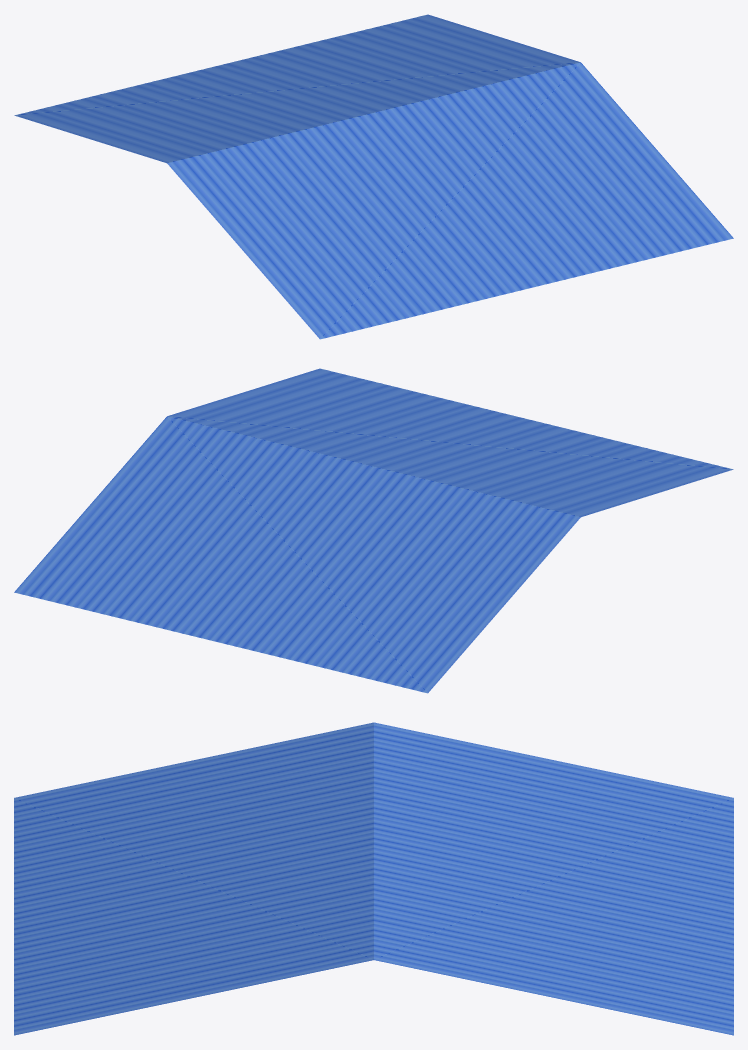
File: roof.fbx
3 renders of one model, top to bottom at view 1: azimuth 30°, elevation 25°; view 2: azimuth 150°, elevation 25°; view 3: azimuth 270°, elevation 25°, orthographic. The views are drawn at different scales.
Visible parts, largest first — view 1: Roof; view 2: Roof; view 3: Roof.
Part boxes in pixels (left/top/right/bottom): Roof: left=14, top=14, right=733, bottom=339; Roof: left=14, top=368, right=733, bottom=693; Roof: left=14, top=722, right=733, bottom=1035.
Bounding box in the file's own units: 56.82 × 8.41 × 72.76.
Materials: 1 (1 with a texture image).
